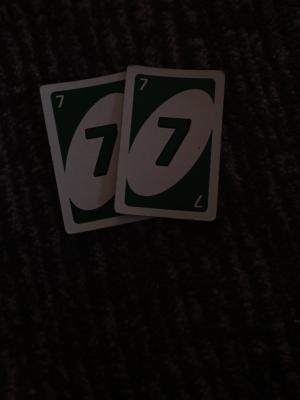num_7: (190, 189, 208, 213), (53, 91, 69, 112), (136, 75, 152, 94)
